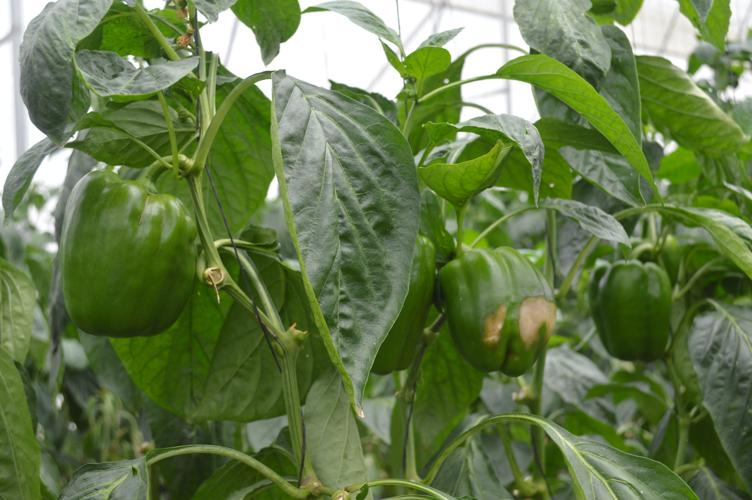BellPepper: (59, 165, 205, 360), (435, 245, 559, 398), (579, 252, 681, 368)
